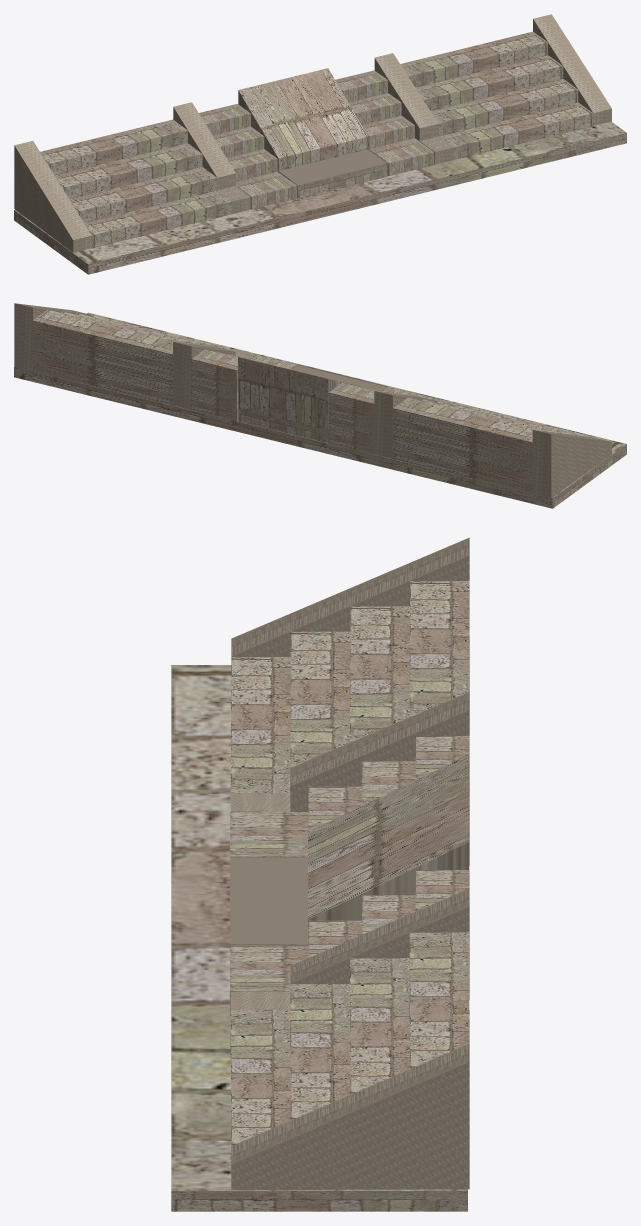
The model's file is stair2.obj.
3 views of the same model, one above another, from view 1: azimuth 30°, elevation 25°; view 2: azimuth 150°, elevation 25°; view 3: azimuth 270°, elevation 25° (orthographic). The views are drawn at different scales.
Visible parts, largest first — view 1: StraightStair006, StraightStair008, Box005, Box004, StraightStair007, StraightStair009; view 2: StraightStair006, StraightStair008, Box005, Box004, StraightStair007, StraightStair009; view 3: StraightStair008, StraightStair006, Box005, Box004, StraightStair009, StraightStair007.
Boxes of the visible parts, x1,y1,x2,y2 form: StraightStair006: [14, 102, 250, 252]; StraightStair008: [374, 14, 611, 164]; Box005: [14, 121, 626, 274]; Box004: [238, 68, 388, 198]; StraightStair007: [335, 70, 434, 175]; StraightStair009: [199, 104, 296, 209]; StraightStair006: [374, 391, 611, 497]; StraightStair008: [14, 303, 250, 409]; Box005: [14, 312, 626, 508]; Box004: [238, 357, 388, 443]; StraightStair007: [191, 349, 296, 421]; StraightStair009: [328, 382, 434, 454]; StraightStair008: [230, 889, 469, 1189]; StraightStair006: [230, 537, 469, 811]; Box005: [171, 665, 467, 1211]; Box004: [230, 754, 469, 946]; StraightStair009: [230, 735, 469, 869]; StraightStair007: [230, 870, 469, 1016].
Bounding box in the file's own units: 202 × 27.01 × 48.52.
